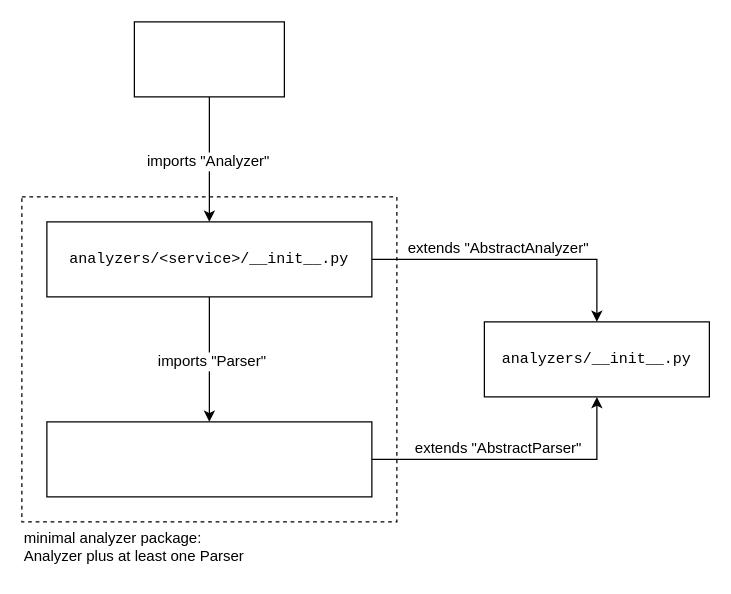
This 731x594 diagram has some shape labels left out. The shapes that lost their labels are listed below. From the top down, each one's centre as x and y in pixels, then its label:
At point (208, 59): "analyze.py".
At point (209, 459): "analyzers/<service>/<tool>.py".
